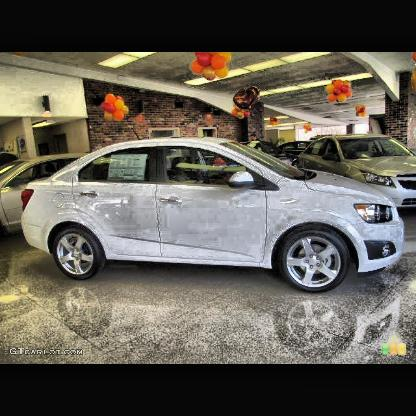Chevrolet Sonic Sedan 2012: (21, 140, 404, 296)
